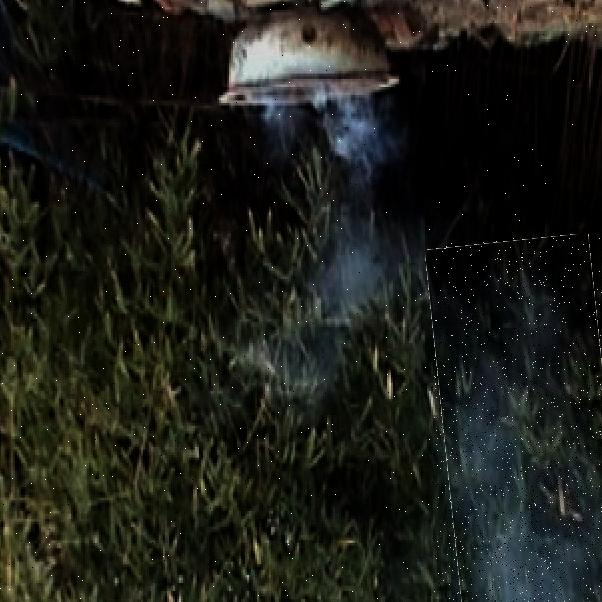smoke: (434, 238, 602, 602)
